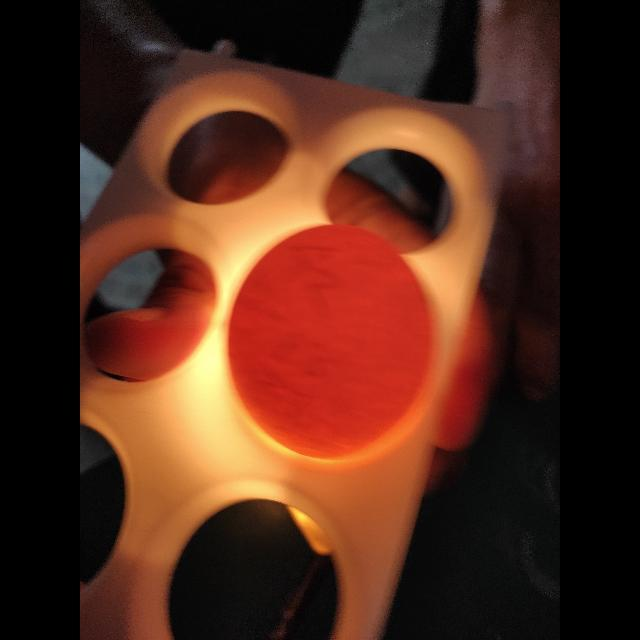Infertile: (222, 218, 444, 462)
